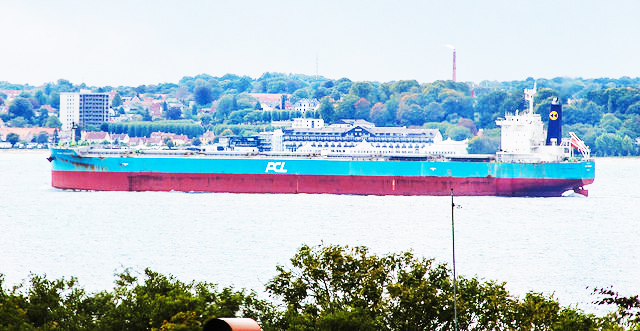bulk carrier: (47, 89, 595, 197)
